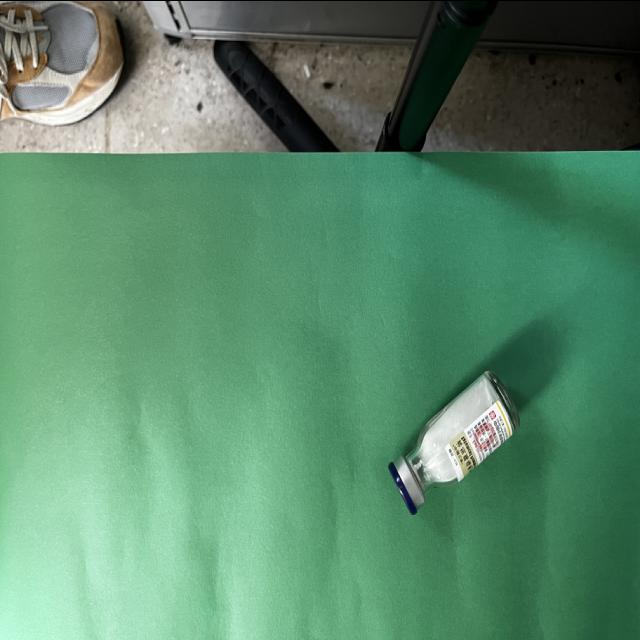Vials: (388, 369, 520, 515)
